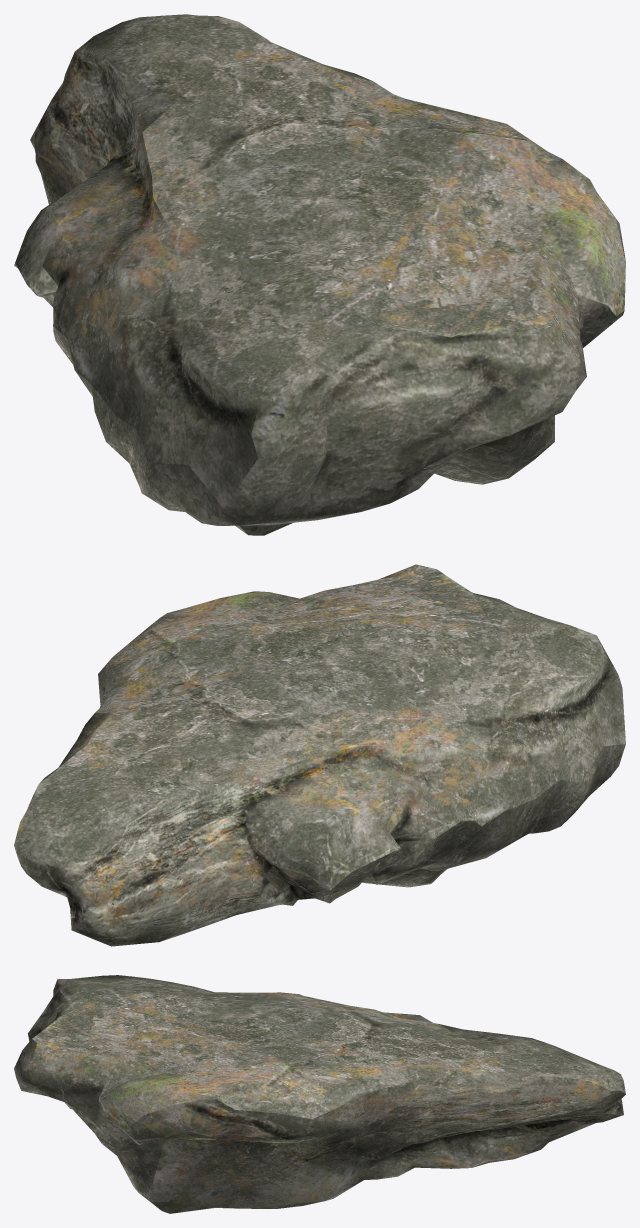
Rendered from obj_nat_rock_01.glb.
3 views of the same model, one above another, from view 1: azimuth 30°, elevation 25°; view 2: azimuth 150°, elevation 25°; view 3: azimuth 270°, elevation 25° (orthographic). The views are drawn at different scales.
Visible parts, largest first — view 1: Object_2; view 2: Object_2; view 3: Object_2.
Part boxes in pixels (<box>): Object_2: <box>14,14,625,535</box>; Object_2: <box>14,564,625,946</box>; Object_2: <box>14,975,625,1213</box>.
Size of the model in its own units: 110 by 55.04 by 184.
Materials: 1 (1 with a texture image).
